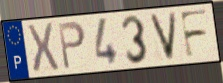3: (121, 13, 149, 66)
4: (94, 17, 119, 70)
F: (178, 8, 210, 60)
P: (56, 20, 88, 72)
V: (148, 10, 179, 63)
X: (25, 22, 61, 76)
